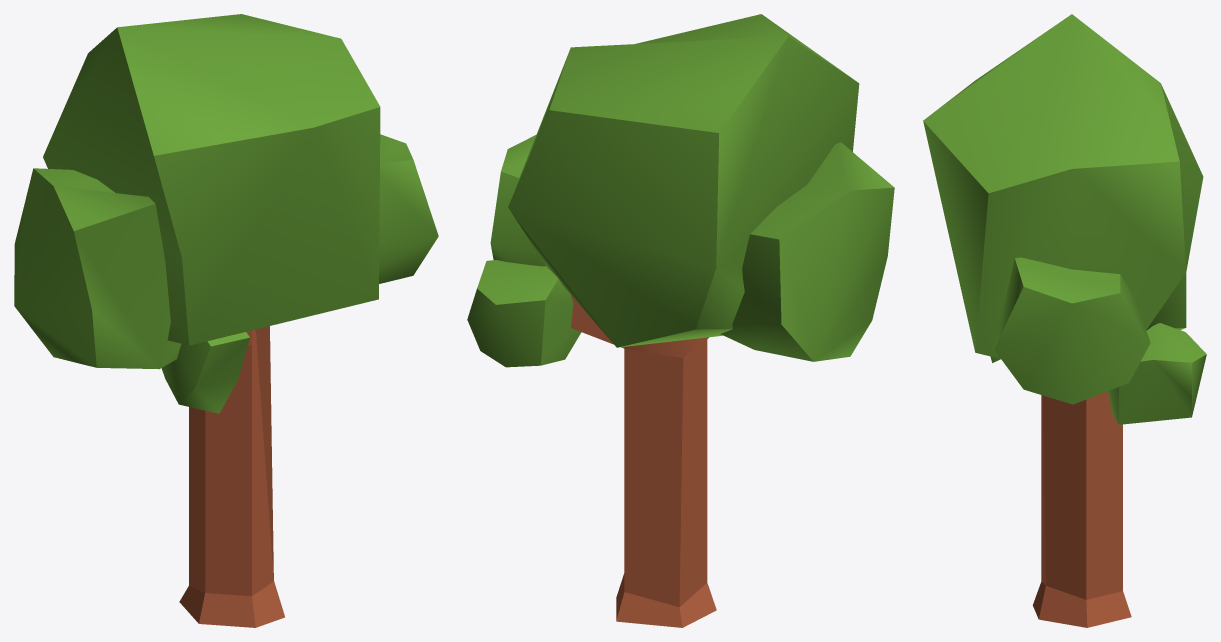
The model's file is Tree2.obj.
3 renders of one model, left to right at view 1: azimuth 30°, elevation 25°; view 2: azimuth 150°, elevation 25°; view 3: azimuth 270°, elevation 25°, orthographic. The views are drawn at different scales.
Parts seen in each view (by area): view 1: Tree_II; view 2: Tree_II; view 3: Tree_II.
Boxes of the visible parts, x1,y1,x2,y2 form: Tree_II: (14,14,438,627); Tree_II: (467,14,894,627); Tree_II: (923,14,1206,627).
Size of the model in its own units: 6.53 by 10.47 by 4.97.
1 material, 1 textured.
